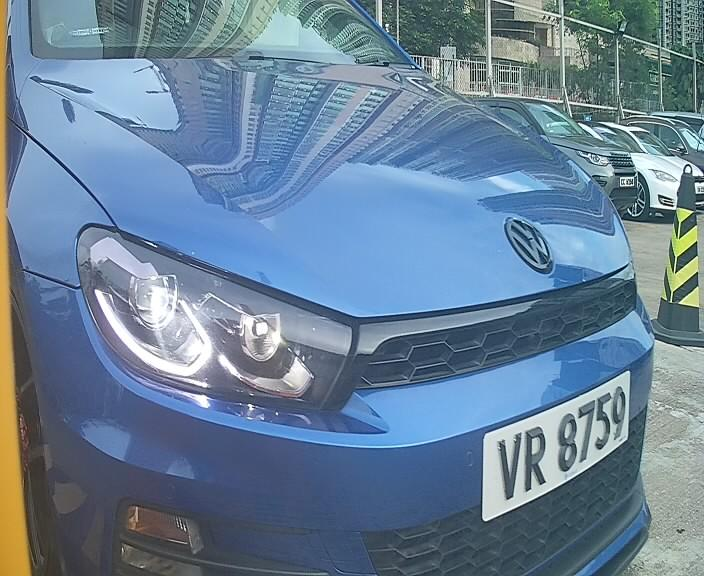License Plate: (459, 353, 653, 528)
